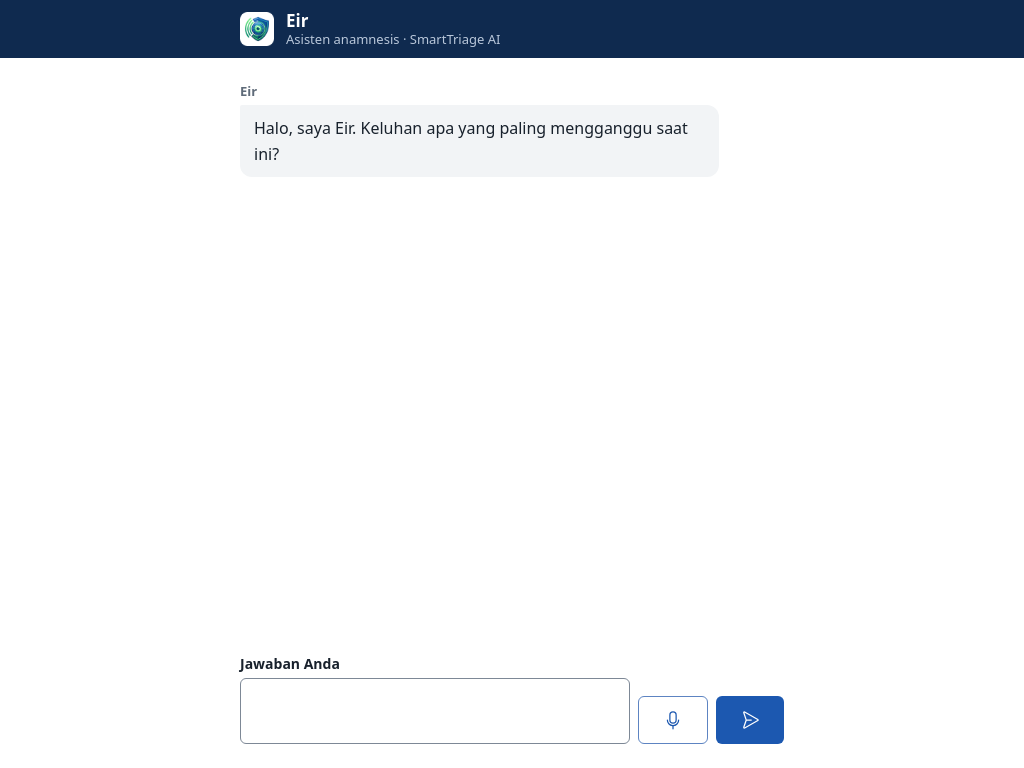
Scenario: Percakapan Eir › jawaban kosong tidak dikirim
This screenshot has width=1024, height=768.
Click the button named "Kirim jawaban" at {"x": 750, "y": 720}, box [716,696,784,744]
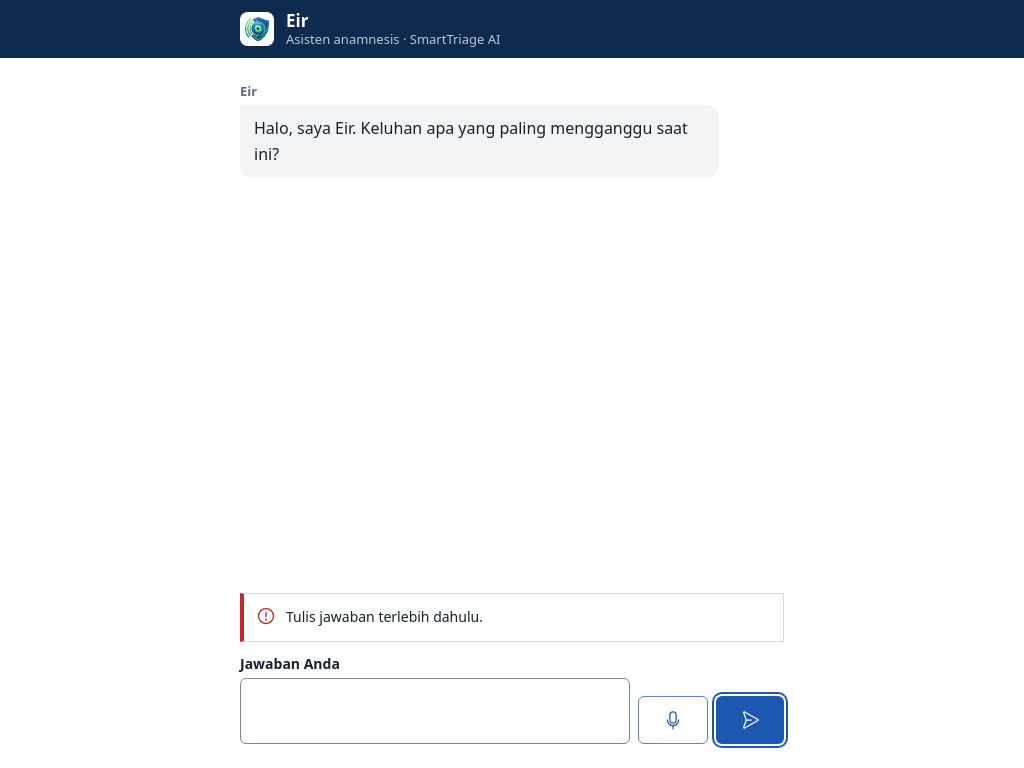
Expected: the message reads "Tulis jawaban terlebih dahulu.", [286,607,483,626]
